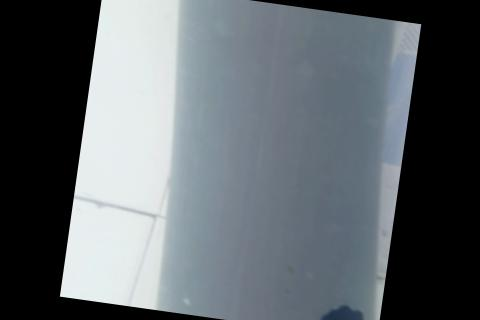kebocoran: (314, 298, 369, 320)
